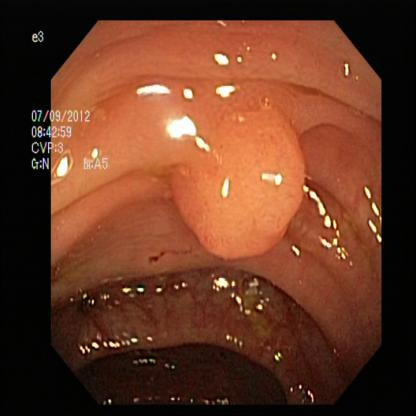Labels: (31, 103, 123, 182), (22, 21, 65, 57)
Polyps: (189, 104, 302, 254)
